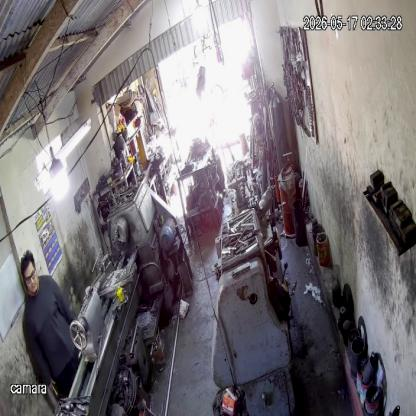lentes: (23, 268, 38, 287)
